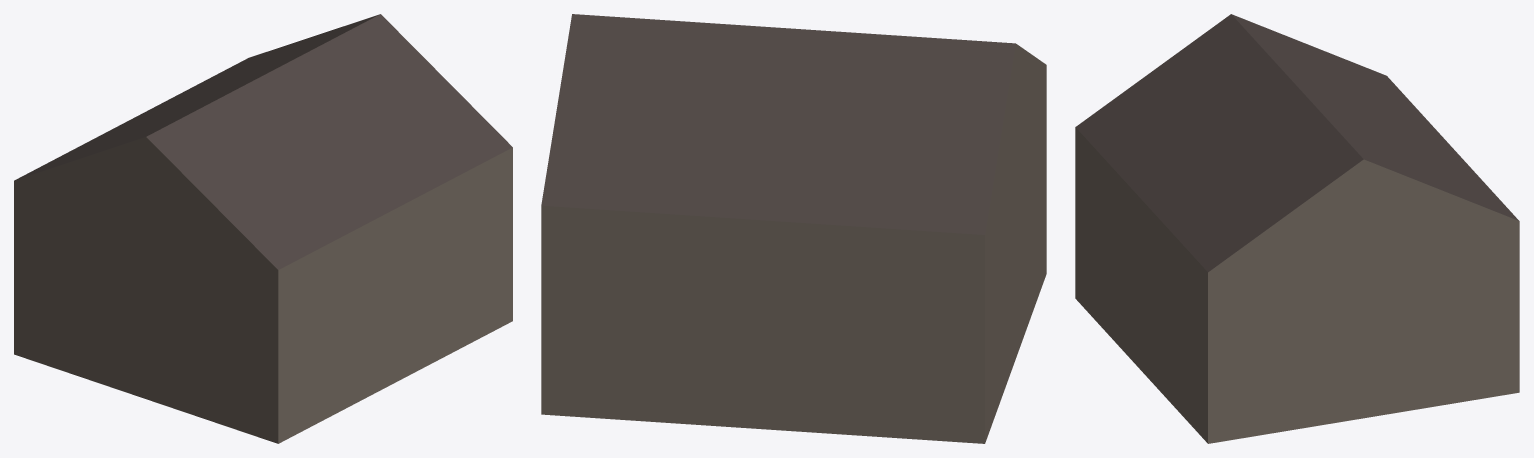
3 views of the same model, side by side, from view 1: azimuth 30°, elevation 25°; view 2: azimuth 150°, elevation 25°; view 3: azimuth 270°, elevation 25° (orthographic). The views are drawn at different scales.
Parts seen in each view (by area): view 1: HP-w369342485; view 2: HP-w369342485; view 3: HP-w369342485.
Boxes of the visible parts, box(x1,y1,x2,y2) form: HP-w369342485: box(14, 14, 512, 443); HP-w369342485: box(541, 14, 1046, 443); HP-w369342485: box(1075, 14, 1519, 443).
Bounding box in the file's own units: 22.13 × 13.59 × 21.12.
